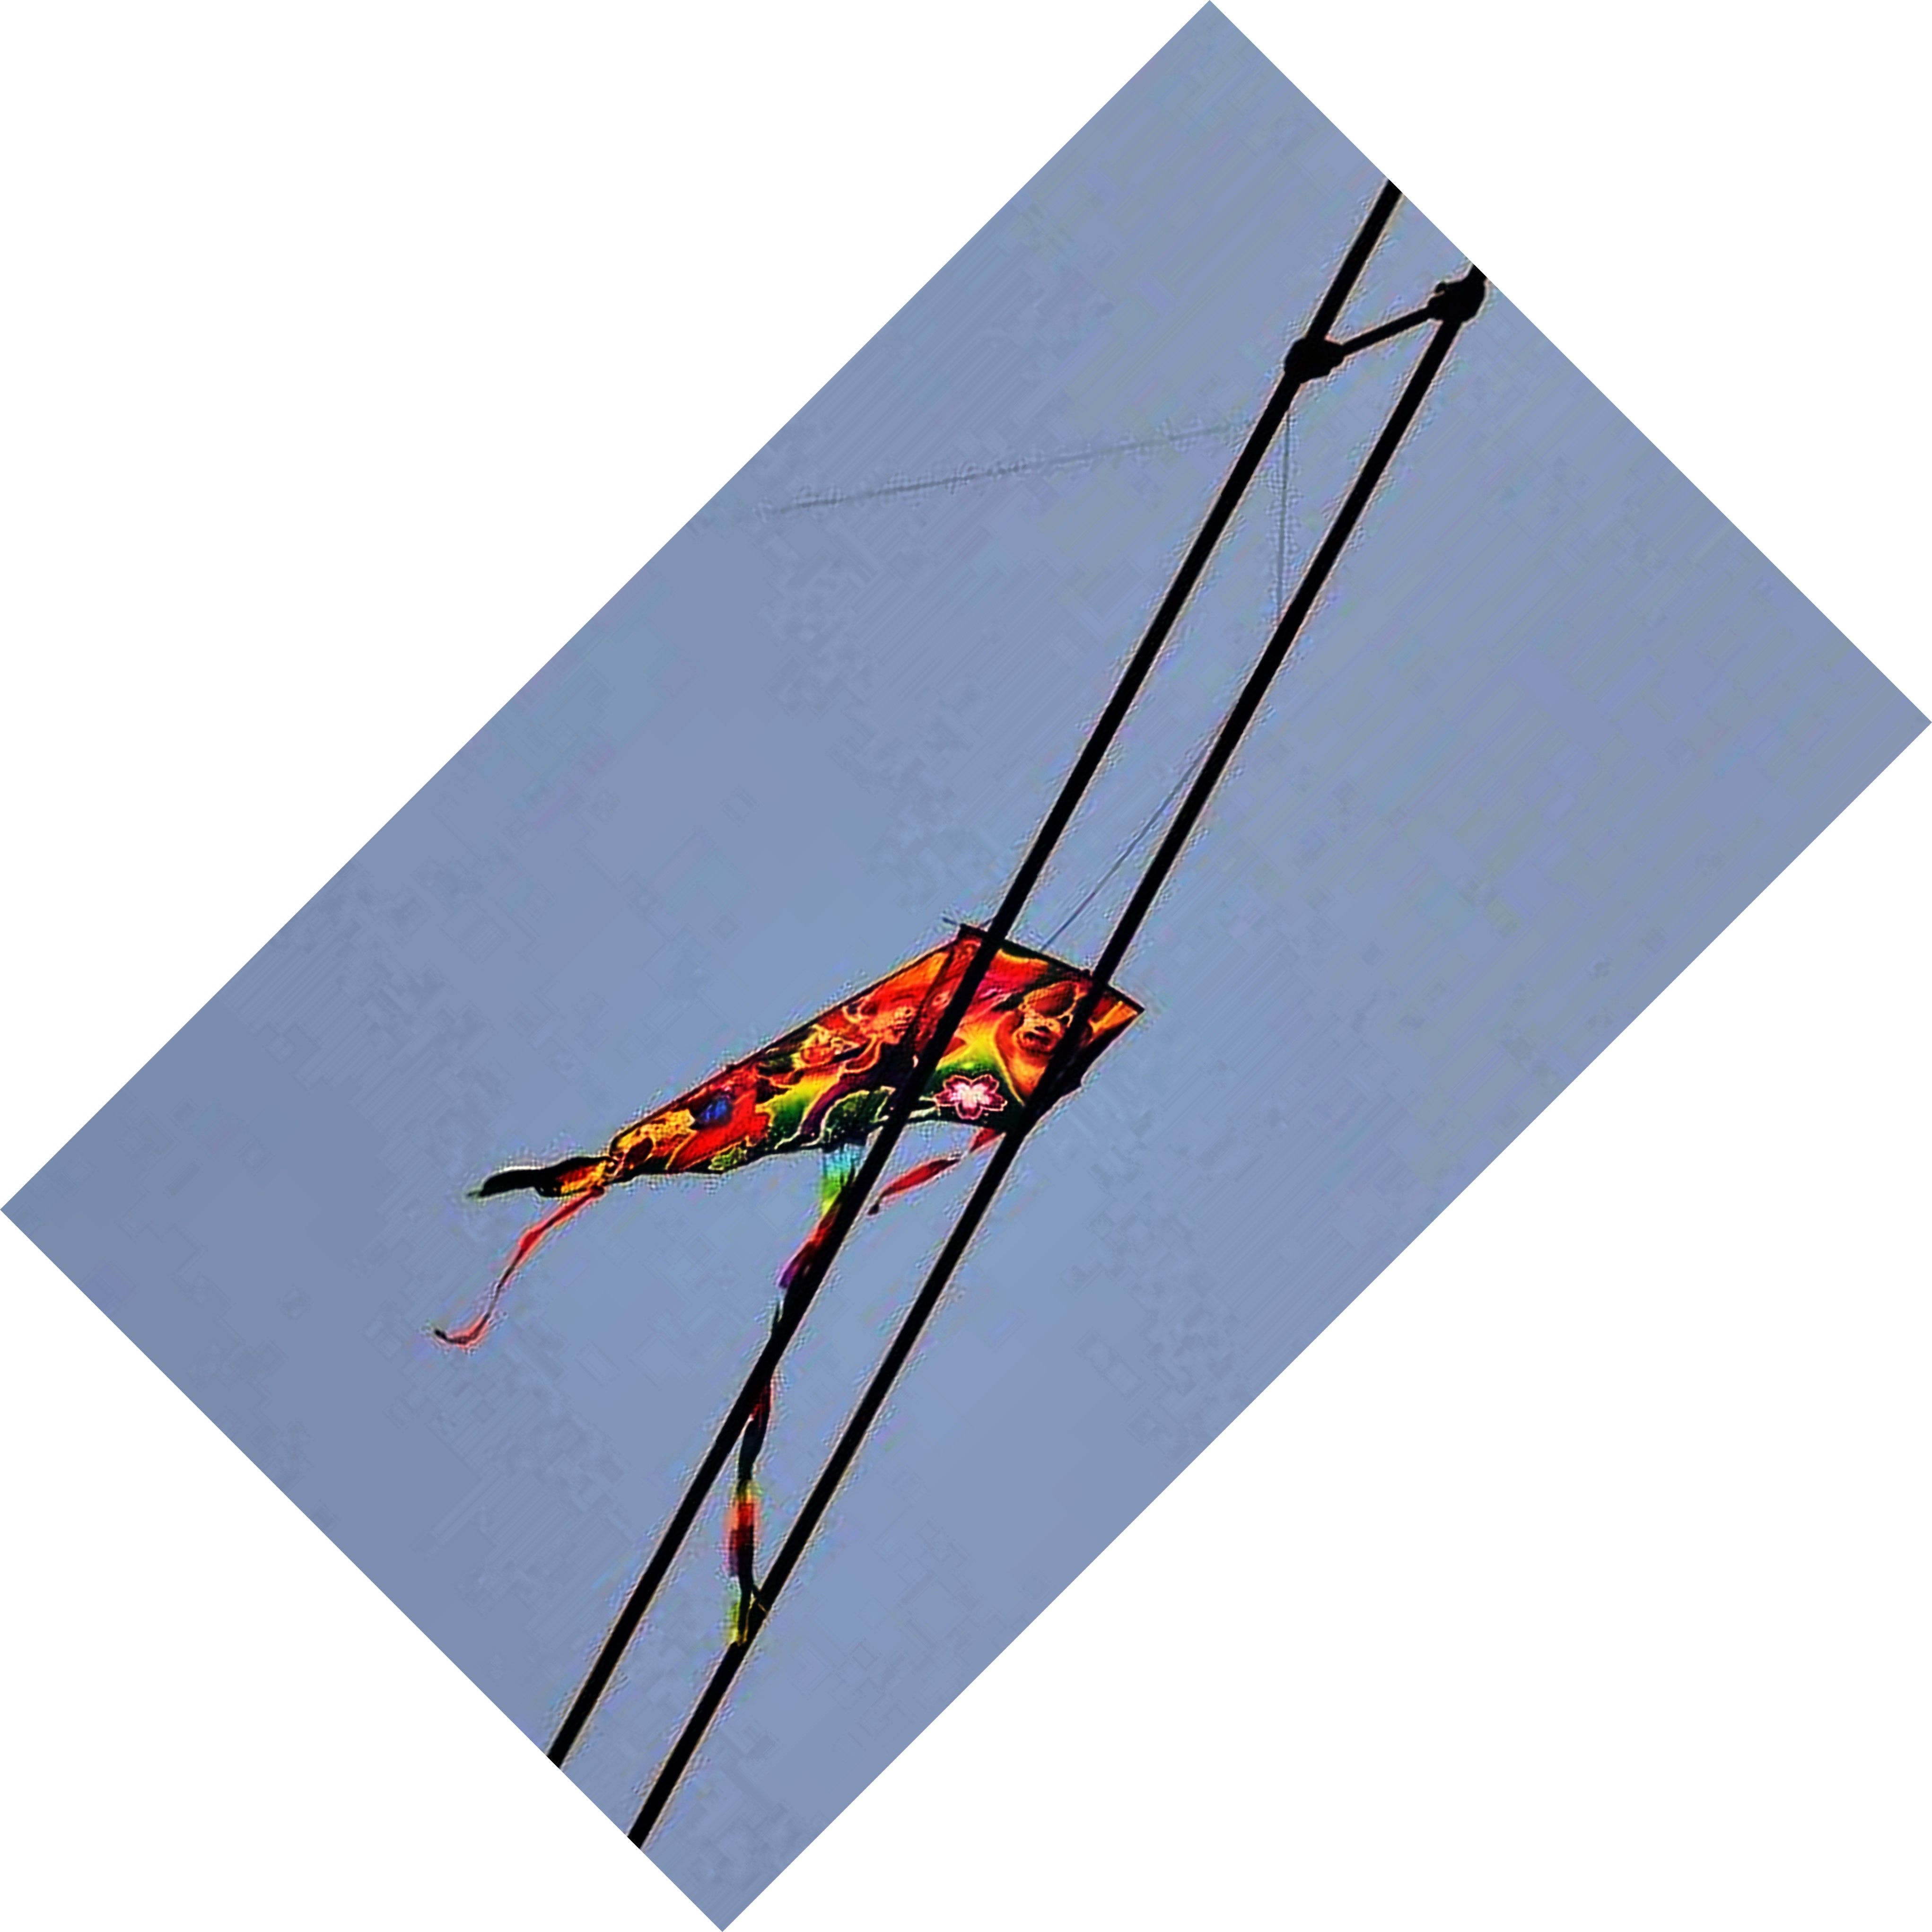wire foreign body: (474, 872, 1189, 1261)
